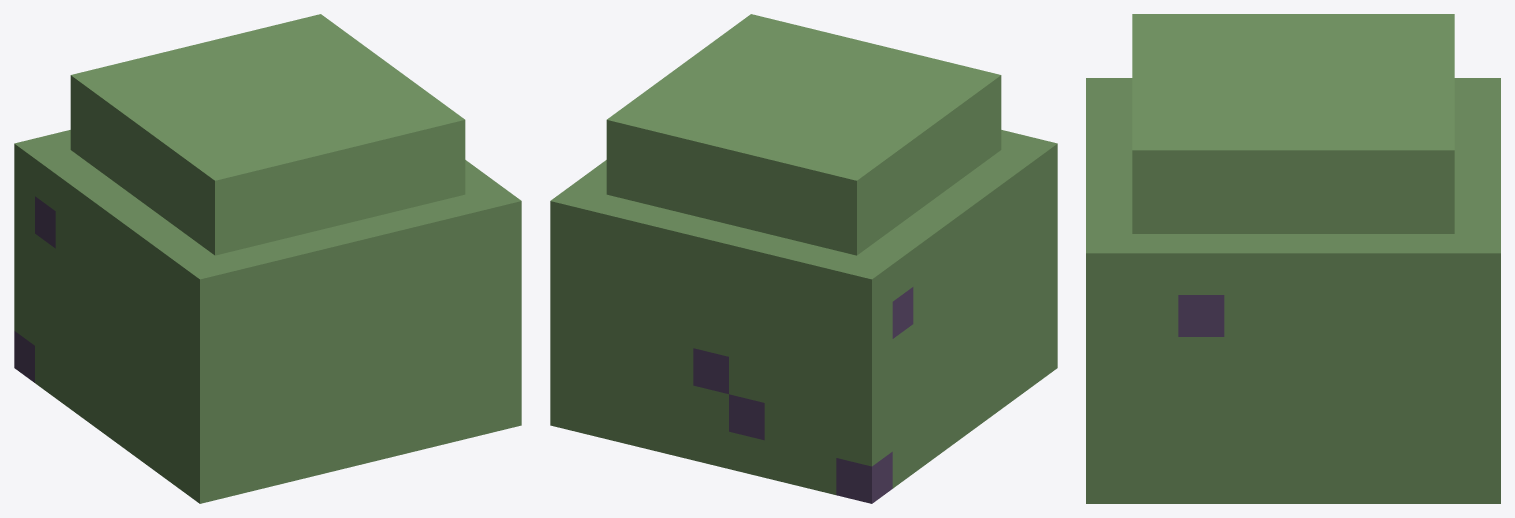
The model's file is sauco_05.glb.
3 renders of one model, left to right at view 1: azimuth 30°, elevation 25°; view 2: azimuth 150°, elevation 25°; view 3: azimuth 270°, elevation 25°, orthographic. The views are drawn at different scales.
Visible parts, largest first — view 1: sauco_05; view 2: sauco_05; view 3: sauco_05.
Boxes of the visible parts, bbox=[...] form: sauco_05: bbox=[14, 14, 521, 503]; sauco_05: bbox=[550, 14, 1057, 503]; sauco_05: bbox=[1086, 14, 1500, 503].
Bounding box in the file's own units: 0.9 × 0.8 × 0.9.
